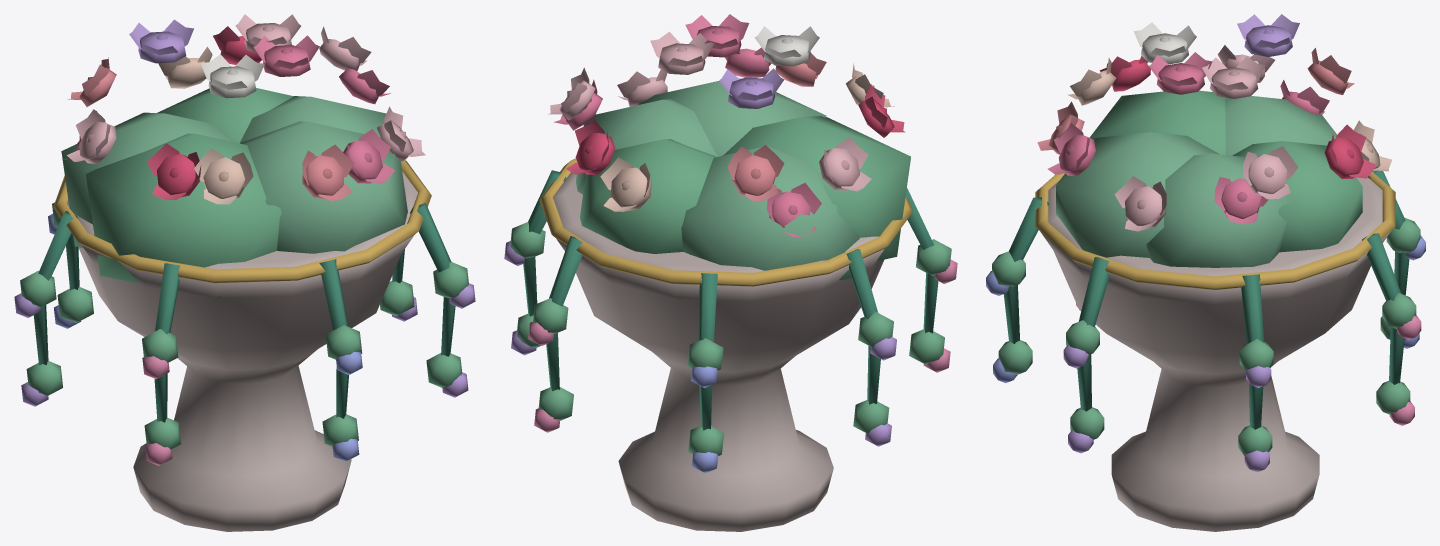
Rendered from urn_overflowing.glb.
3 renders of one model, left to right at view 1: azimuth 30°, elevation 25°; view 2: azimuth 150°, elevation 25°; view 3: azimuth 270°, elevation 25°, orthographic. The views are drawn at different scales.
Parts seen in each view (by area): view 1: urn_overflowing; view 2: urn_overflowing; view 3: urn_overflowing.
Boxes of the visible parts, left/top/right/bottom form: urn_overflowing: left=14, top=14, right=475, bottom=531; urn_overflowing: left=504, top=14, right=957, bottom=531; urn_overflowing: left=986, top=14, right=1425, bottom=531.
Size of what is drawn, in the model's own units: 1.35 by 1.45 by 1.32.
